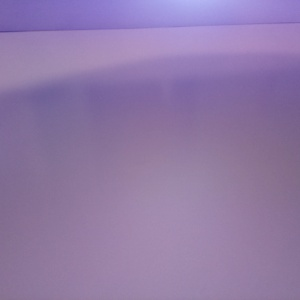alive_ball: (1, 157, 300, 300), (1, 58, 24, 136)
dead_ball: (258, 45, 300, 143)
